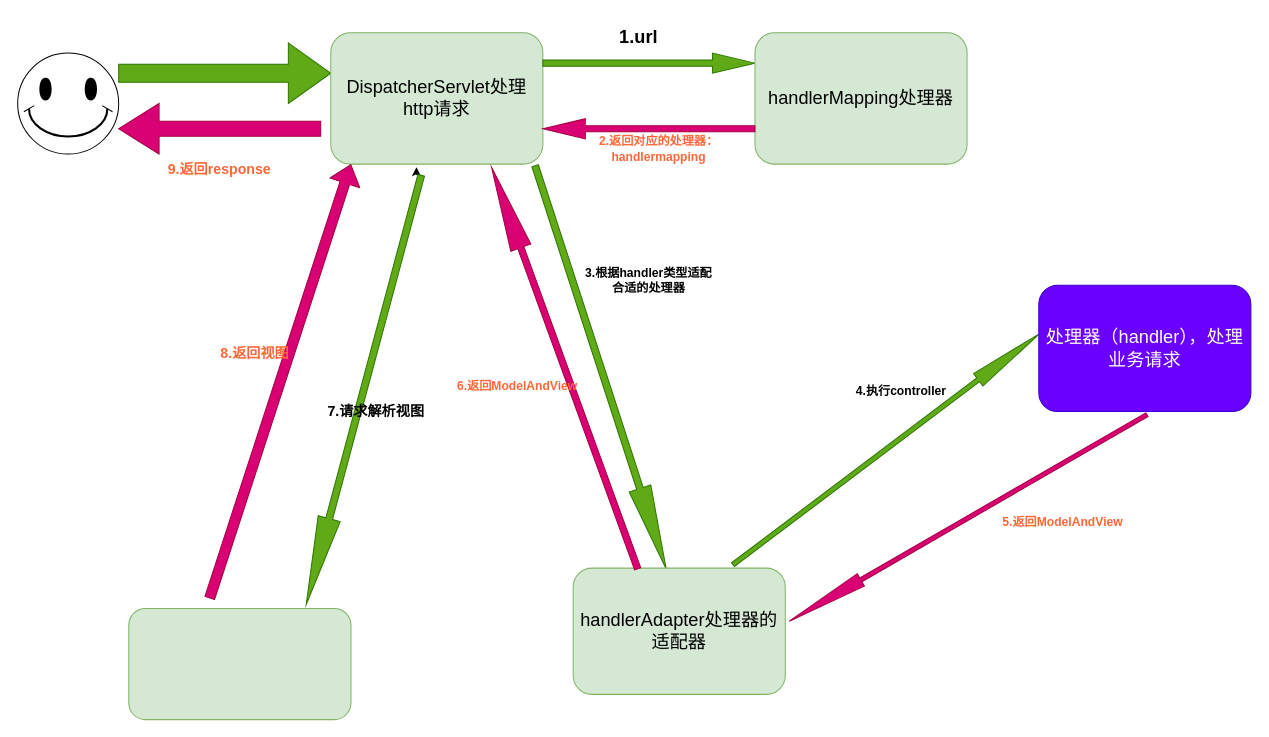
This 1269x737 diagram has some shape labels left out. The centre of each missing label's shape, as x and y in pixels:
"0.http请求" belongs at point 224,73.
"视图解析器" belongs at point 239,664.
